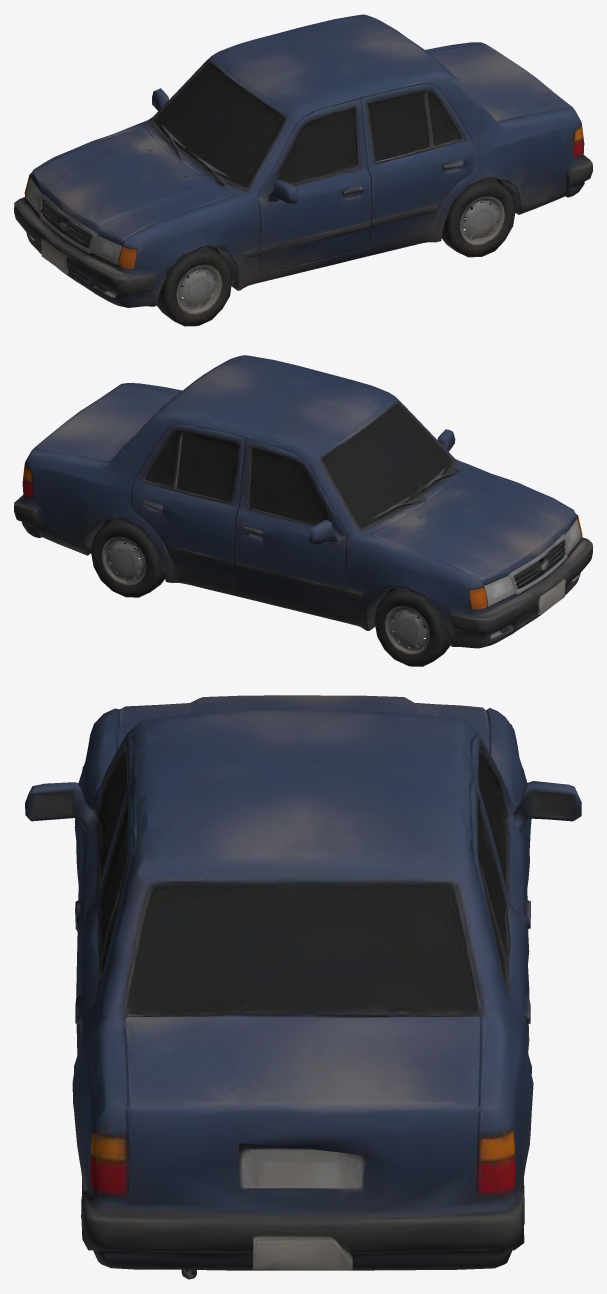
The model's file is car_saloon_dark.glb.
3 views of the same model, one above another, from view 1: azimuth 30°, elevation 25°; view 2: azimuth 150°, elevation 25°; view 3: azimuth 270°, elevation 25° (orthographic). The views are drawn at different scales.
Parts seen in each view (by area): view 1: tripo_node_934607f9-cc59-4a07-9c3b-eca6ced6a5aa; view 2: tripo_node_934607f9-cc59-4a07-9c3b-eca6ced6a5aa; view 3: tripo_node_934607f9-cc59-4a07-9c3b-eca6ced6a5aa.
Part boxes in pixels (x1,y1,x2,y2): tripo_node_934607f9-cc59-4a07-9c3b-eca6ced6a5aa: (14, 14, 592, 326); tripo_node_934607f9-cc59-4a07-9c3b-eca6ced6a5aa: (14, 355, 592, 666); tripo_node_934607f9-cc59-4a07-9c3b-eca6ced6a5aa: (25, 695, 581, 1279).
Bounding box in the file's own units: 1 × 0.3638 × 0.49.
1 material, 1 textured.
